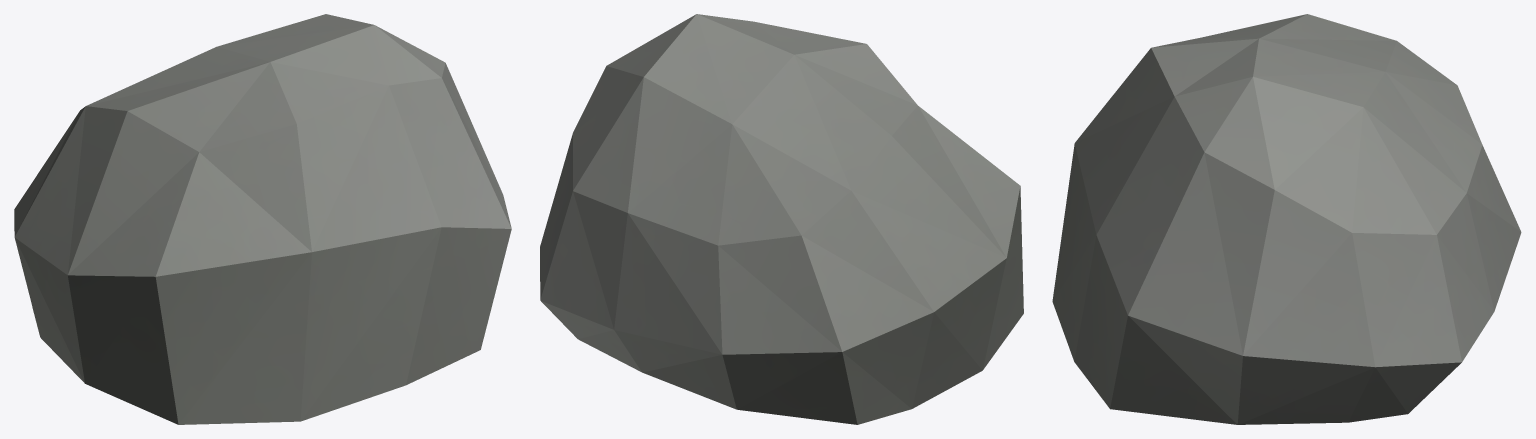
File: stone01.glb
3 renders of one model, left to right at view 1: azimuth 30°, elevation 25°; view 2: azimuth 150°, elevation 25°; view 3: azimuth 270°, elevation 25°, orthographic. The views are drawn at different scales.
Visible parts, largest first — view 1: Roundcube; view 2: Roundcube; view 3: Roundcube.
Part boxes in pixels (bbox=[...]): Roundcube: bbox=[14, 14, 511, 424]; Roundcube: bbox=[540, 14, 1023, 424]; Roundcube: bbox=[1052, 14, 1521, 424].
Size of what is drawn, in the model's own units: 1.12 by 0.7216 by 0.9677.
1 material, 1 textured.
